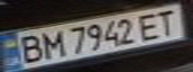2: (115, 15, 139, 46)
4: (103, 18, 124, 48)
7: (63, 24, 87, 55)
9: (84, 20, 106, 52)
B: (12, 33, 48, 65)
E: (133, 10, 166, 40)
M: (36, 28, 66, 60)
T: (151, 7, 184, 37)
